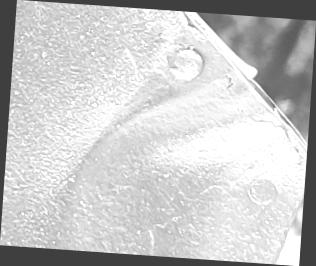dent: (1, 0, 316, 265)
